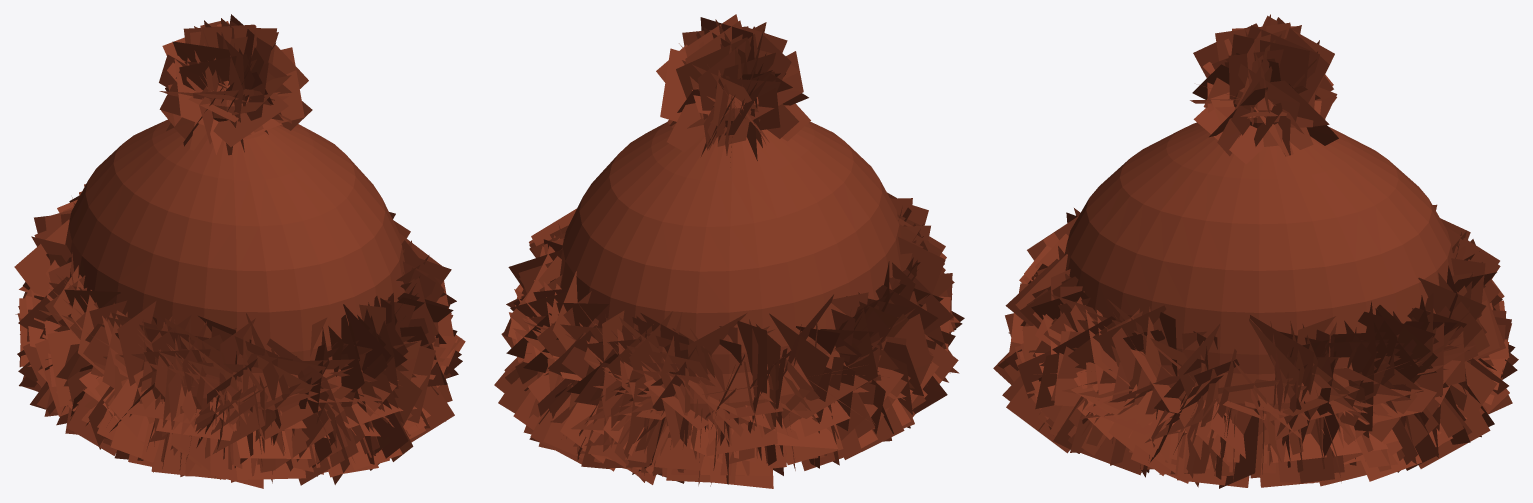
Rendered from hat.fbx.
3 renders of one model, left to right at view 1: azimuth 30°, elevation 25°; view 2: azimuth 150°, elevation 25°; view 3: azimuth 270°, elevation 25°, orthographic. The views are drawn at different scales.
Visible parts, largest first — view 1: hat; view 2: hat; view 3: hat.
Part boxes in pixels (bbox=[...]): hat: bbox=[14, 14, 465, 488]; hat: bbox=[494, 14, 964, 488]; hat: bbox=[993, 14, 1518, 488].
Bounding box in the file's own units: 0.2697 × 0.258 × 0.3113.
